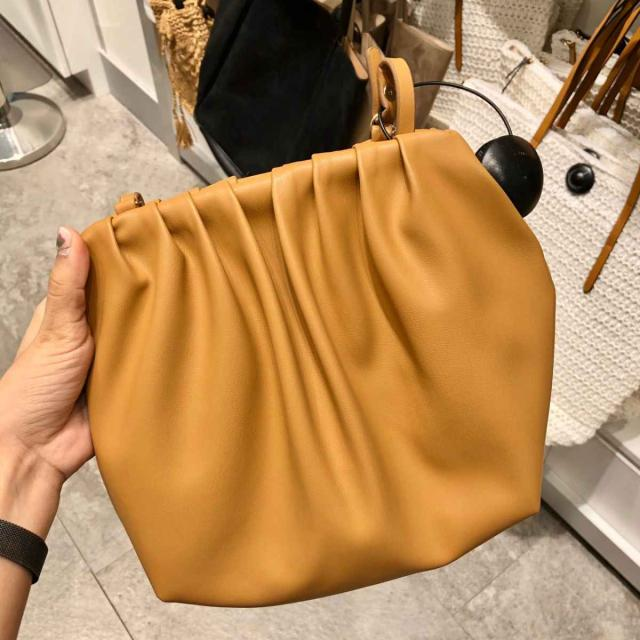Handbag: (75, 129, 552, 611)
